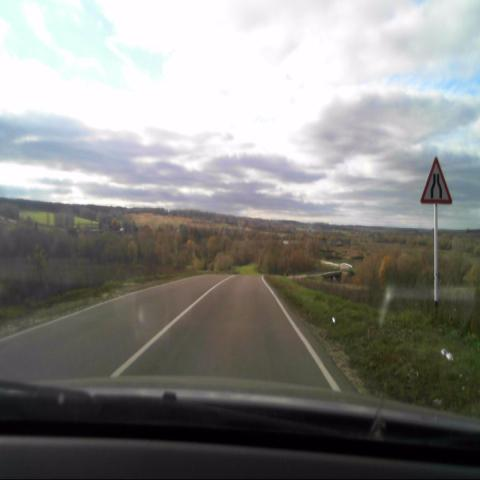1_20: (420, 156, 452, 206)
